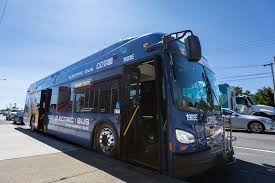bus: (23, 31, 228, 176)
